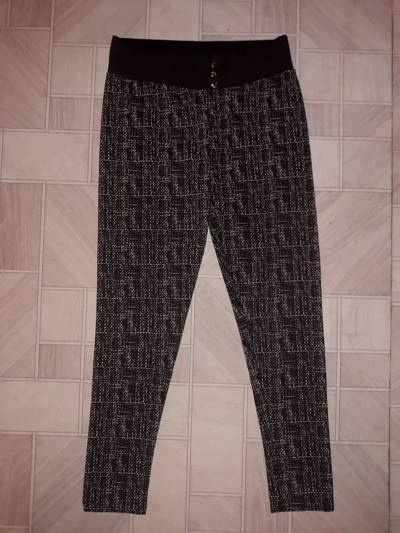Pants: (58, 16, 369, 518)
